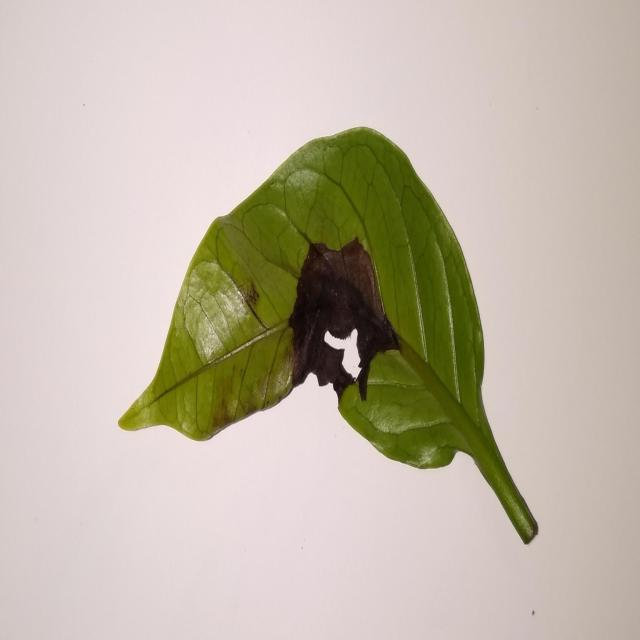Enfermedad-Antracnosis: (117, 128, 539, 548)
